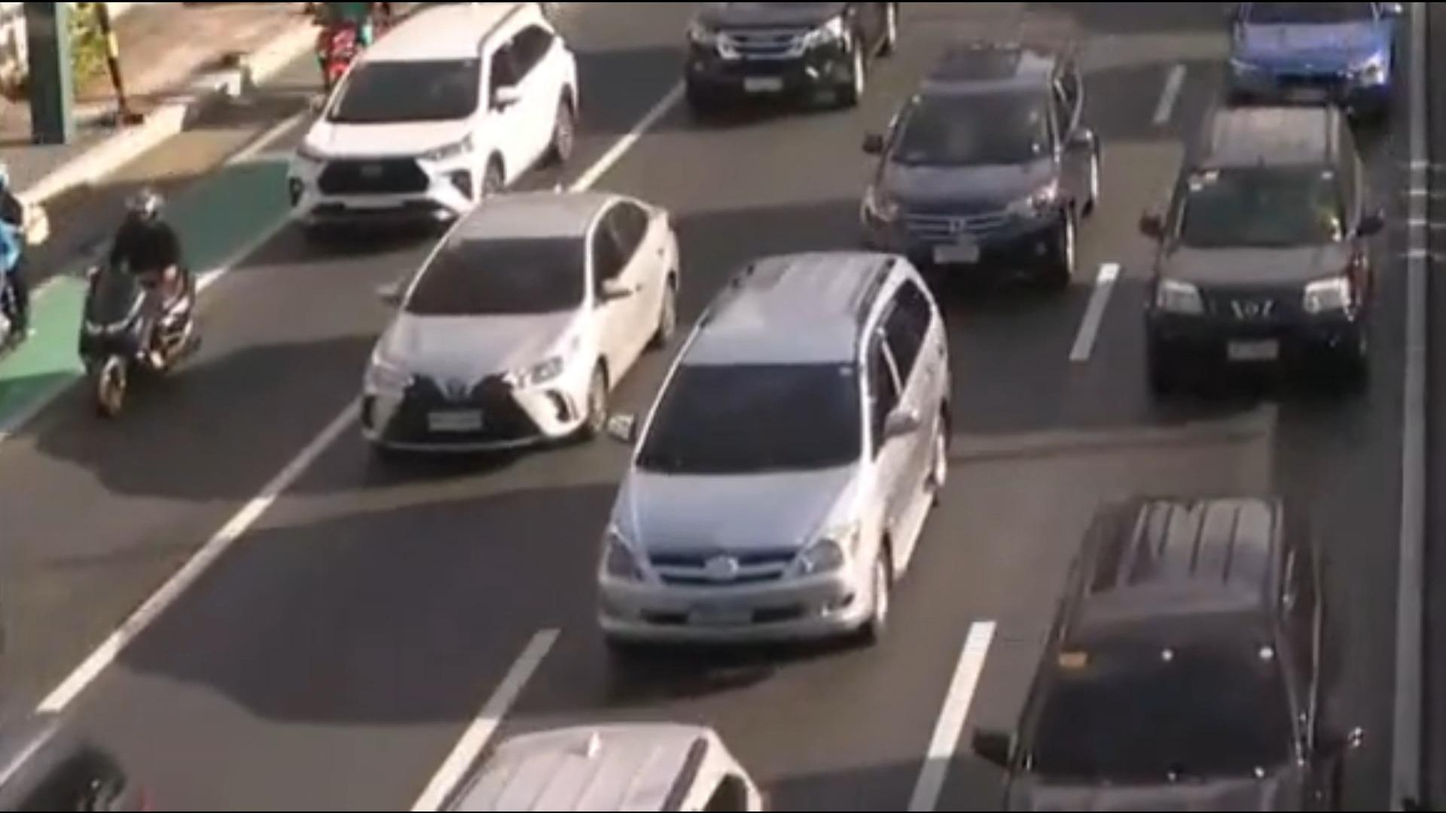Motorcycle: (66, 168, 211, 425), (0, 158, 51, 396), (296, 0, 390, 102)
SUV: (557, 241, 1008, 696), (1006, 461, 1376, 813), (1082, 93, 1412, 443), (256, 5, 600, 249), (856, 21, 1119, 291), (656, 0, 944, 134)
Sedan: (334, 175, 720, 508)
